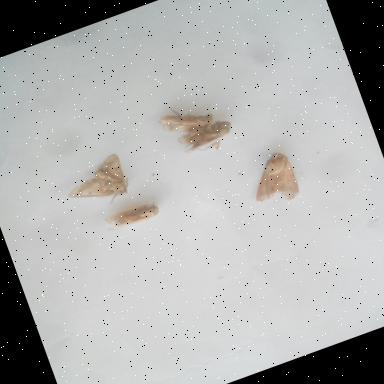abw: (51, 146, 144, 222), (236, 140, 315, 220), (150, 90, 222, 150), (95, 190, 173, 244), (170, 110, 242, 164)
